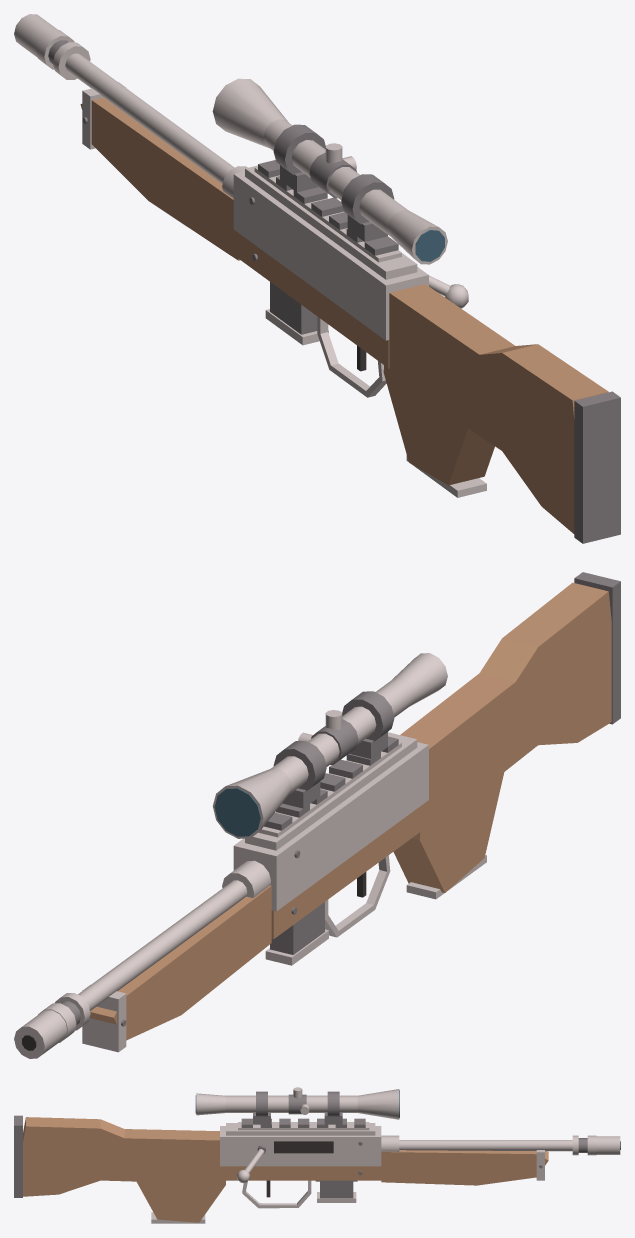
The model's file is bolt_sniper_assembled.glb.
3 renders of one model, top to bottom at view 1: azimuth 30°, elevation 25°; view 2: azimuth 150°, elevation 25°; view 3: azimuth 270°, elevation 25°, orthographic. The views are drawn at different scales.
Parts seen in each view (by area): view 1: stock, receiver, scope, handguard, barrel, magazine; view 2: stock, receiver, scope, handguard, barrel, magazine; view 3: stock, receiver, handguard, scope, barrel, magazine, bolt.
Boxes of the visible parts, x1=… form: stock: x1=383, y1=284, x2=620, y2=543; receiver: x1=233, y1=160, x2=428, y2=397; scope: x1=212, y1=78, x2=447, y2=264; handguard: x1=80, y1=82, x2=240, y2=260; barrel: x1=14, y1=14, x2=247, y2=198; magazine: x1=265, y1=282, x2=328, y2=345; stock: x1=393, y1=572, x2=620, y2=899; receiver: x1=233, y1=732, x2=428, y2=939; scope: x1=212, y1=653, x2=447, y2=838; handguard: x1=82, y1=885, x2=271, y2=1052; barrel: x1=14, y1=860, x2=270, y2=1058; magazine: x1=265, y1=902, x2=328, y2=965; stock: x1=14, y1=1115, x2=225, y2=1223; receiver: x1=220, y1=1118, x2=381, y2=1208; handguard: x1=381, y1=1150, x2=548, y2=1185; scope: x1=195, y1=1087, x2=399, y2=1124; barrel: x1=381, y1=1135, x2=620, y2=1155; magazine: x1=317, y1=1181, x2=356, y2=1202; bolt: x1=237, y1=1145, x2=265, y2=1182.
Bounding box in the file's own units: 0.1099 × 0.241 × 1.02.
